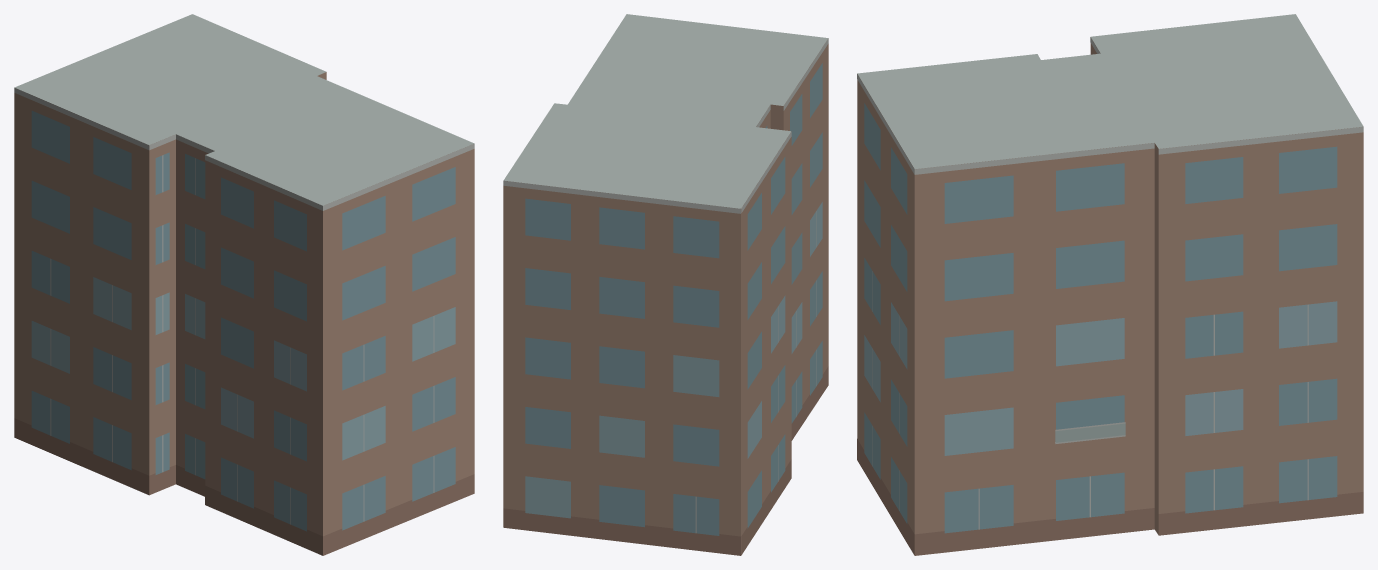
File: survey-upis-32491923.glb
3 renders of one model, left to right at view 1: azimuth 30°, elevation 25°; view 2: azimuth 150°, elevation 25°; view 3: azimuth 270°, elevation 25°, orthographic. The views are drawn at different scales.
Parts seen in each view (by area): view 1: survey-upis-32491923.tmp; view 2: survey-upis-32491923.tmp; view 3: survey-upis-32491923.tmp.
Boxes of the visible parts, box(x1,y1,x2,y2) form: survey-upis-32491923.tmp: box(14, 14, 474, 555); survey-upis-32491923.tmp: box(503, 14, 828, 555); survey-upis-32491923.tmp: box(857, 14, 1363, 555).
Size of the model in its own units: 14.3 by 16.6 by 19.72.
